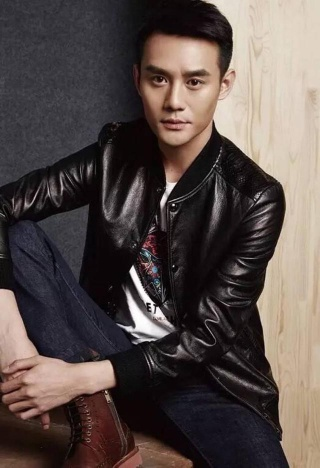male: (124, 1, 239, 150)
